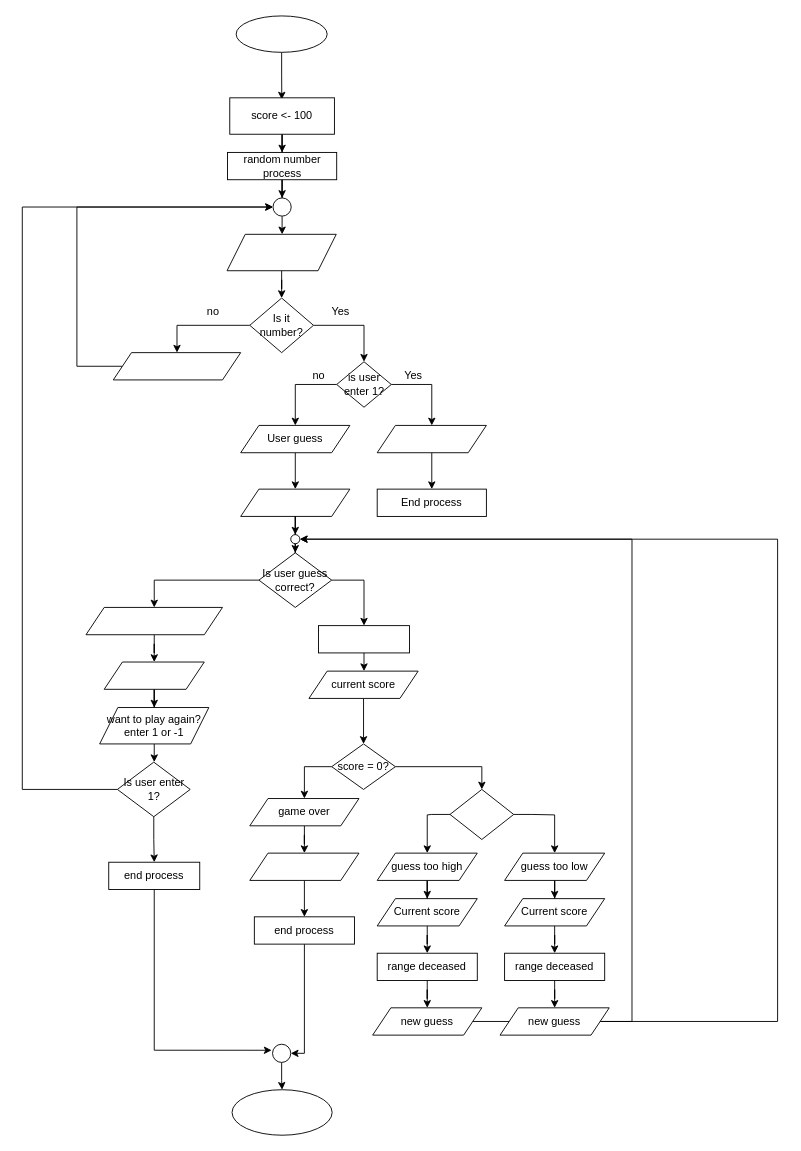
Some shapes in this 801 by 1151 pixel diagram are drawn without their labels. Each missing label, with the box of its shape:
end: (231, 1089, 332, 1135)
Enter only 1 and -1: (112, 352, 241, 380)
guess: (240, 488, 350, 516)
Is guess number > random number?: (449, 789, 514, 839)
random number: (249, 852, 359, 880)
score: (103, 661, 204, 689)
score = score - 10: (318, 625, 410, 653)
see you again, player.: (376, 425, 486, 453)
start: (235, 15, 327, 52)
Want to play?: (226, 233, 336, 271)
Yay. Guess corrected.: (85, 607, 222, 635)
